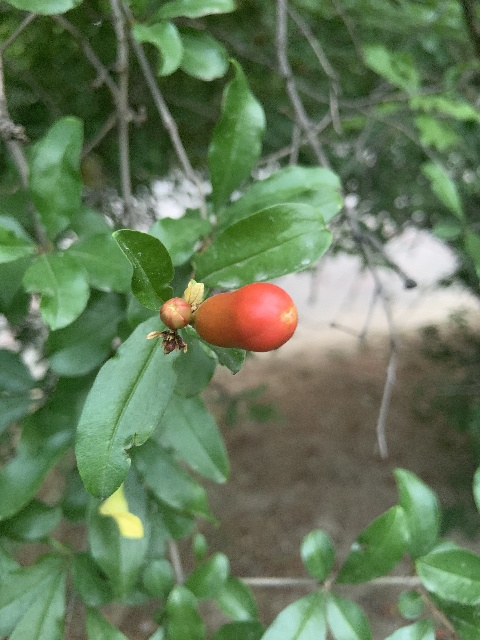bud: (194, 282, 299, 353), (160, 297, 191, 330)
